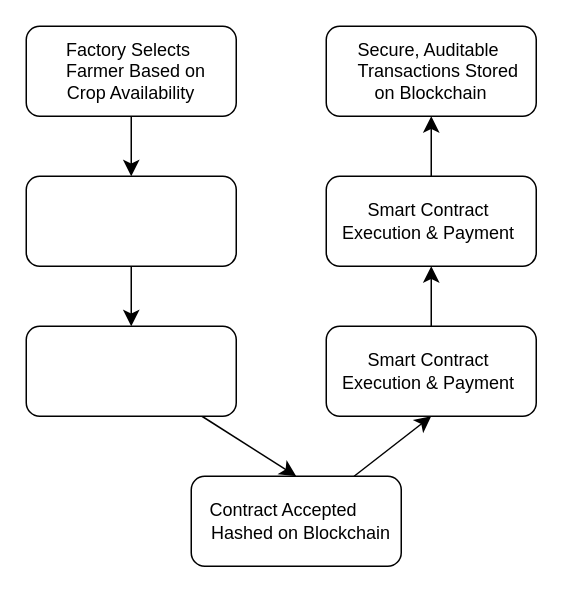
Some shapes in this 563 by 593 pixel diagram are drawn without their labels. Here are the shapes that lost their labels. From the top down, the box of each, then its label:
(25, 175, 236, 266): Contract Request Sent to Farmer
(25, 325, 236, 416): Farmer Reviews Contract Terms
